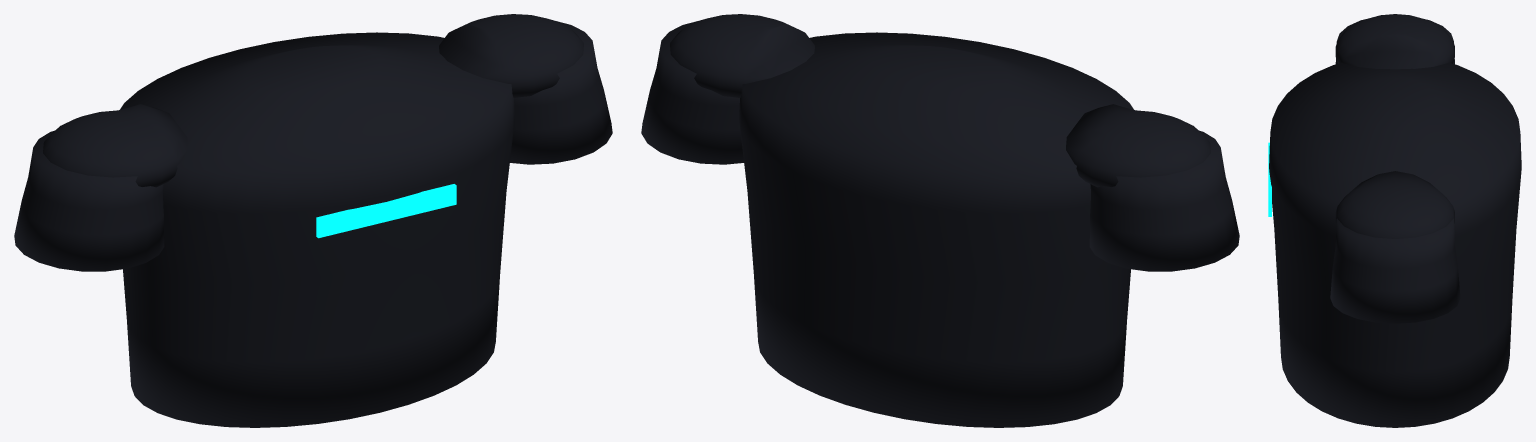
The model's file is top_cool_1.glb.
3 renders of one model, left to right at view 1: azimuth 30°, elevation 25°; view 2: azimuth 150°, elevation 25°; view 3: azimuth 270°, elevation 25°, orthographic. The views are drawn at different scales.
Bounding box in the file's own units: 0.6566 × 0.3212 × 0.2903.
